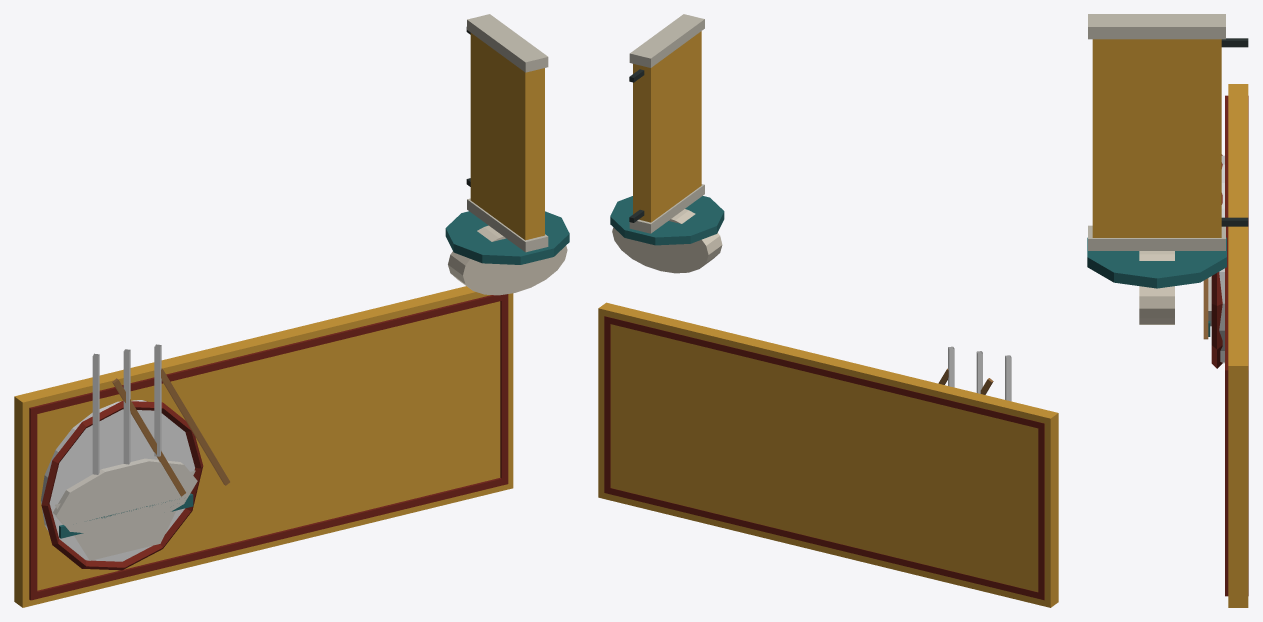
Rendered from bang_pho_ba_tam_32.glb.
The picture shows the model from 3 angles, left to right: view 1: azimuth 30°, elevation 25°; view 2: azimuth 150°, elevation 25°; view 3: azimuth 270°, elevation 25°; orthographic projection. The views are drawn at different scales.
Visible parts, largest first — view 1: bang_pho_ba_tam_32; view 2: bang_pho_ba_tam_32; view 3: bang_pho_ba_tam_32.
Boxes of the visible parts, x1,y1,x2,y2 form: bang_pho_ba_tam_32: [14, 14, 569, 607]; bang_pho_ba_tam_32: [598, 14, 1058, 607]; bang_pho_ba_tam_32: [1087, 14, 1248, 607].
Size of the model in its own units: 3.11 by 2.81 by 0.7258.
